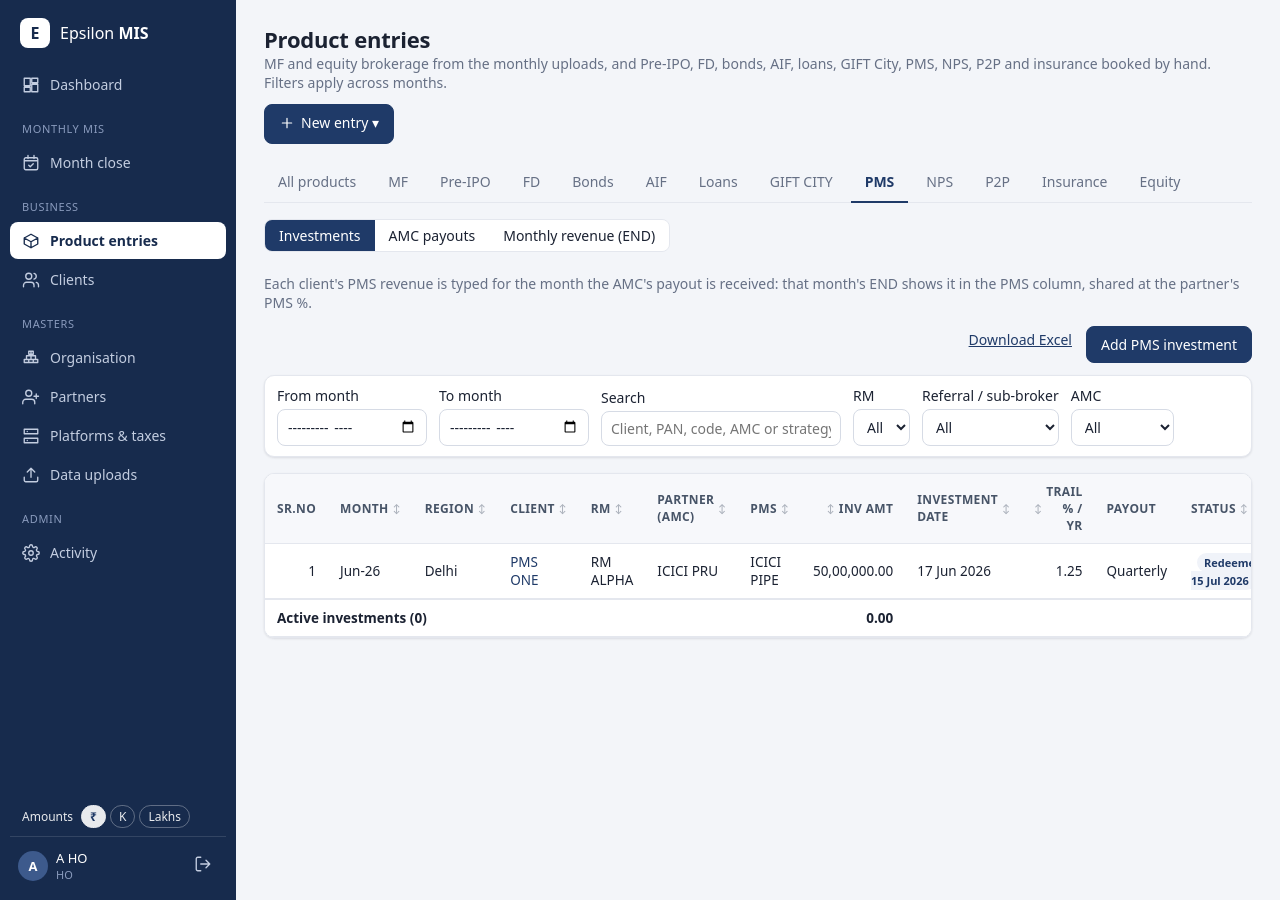
Test: pms › lists investments and switches to the AMC payouts
The image size is (1280, 900).
expect the text "Redeemed 15 Jul 2026" is shown: met, box [1191,552,1252,590]
expect the text "Quarterly" is shown: met, box [1095,543,1179,598]
Click the button "AMC payouts" at (432, 235), box [375,220,489,250]
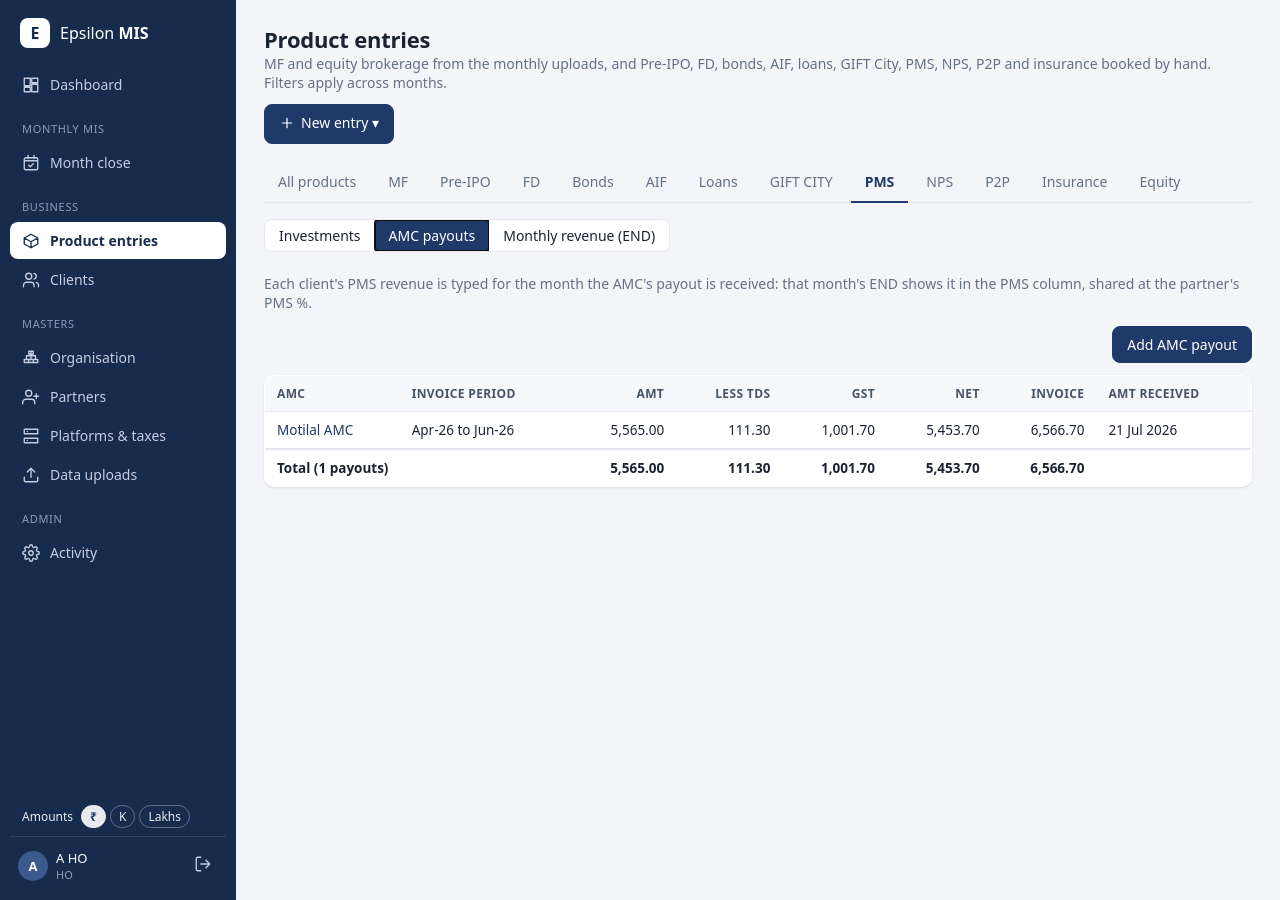
expect the text "Apr-26 to Jun-26" is shown: met, box [400,411,572,448]
expect the text "6,566.70" in the row of "Apr-26 to Jun-26" is shown: met, box [1031,420,1084,438]
